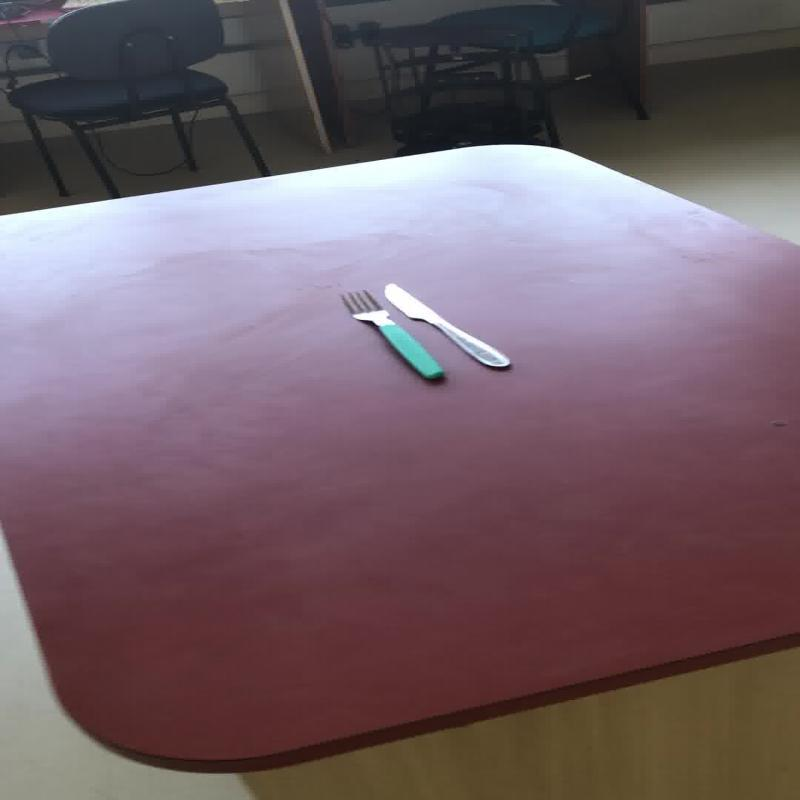fork: (336, 288, 443, 380)
knife: (336, 280, 512, 380), (381, 282, 511, 368)
